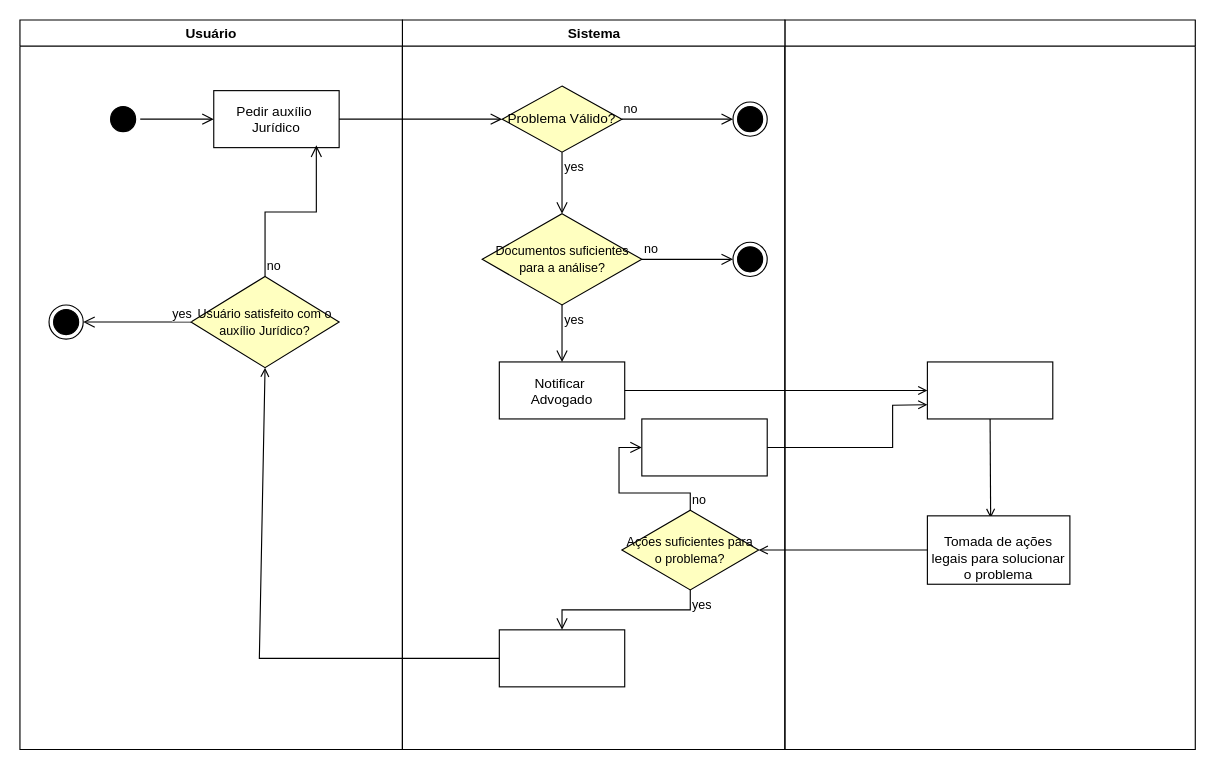
Image size: 1215x770. Some labels were removed from this diagram. Here are the shapes that lost their labels. From the top down, the box of each, then its label:
(784, 19, 1195, 750): Advogado
(926, 361, 1053, 419): Recolher relatório / documentos
(641, 418, 767, 476): Notificar outro Advogado
(498, 629, 625, 687): Envio dos resultados
